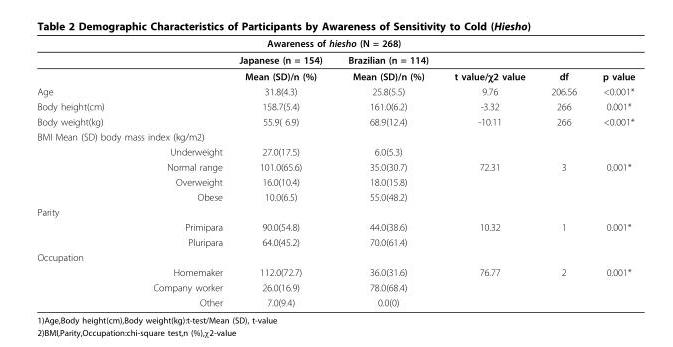table: (36, 37, 634, 307)
table column: (36, 37, 230, 307), (334, 37, 440, 307), (230, 37, 334, 307), (440, 37, 537, 307), (537, 37, 589, 307), (589, 37, 634, 307)
table column header: (36, 37, 634, 67)
table projected row header: (36, 128, 634, 143), (36, 204, 634, 219), (36, 249, 634, 264)
table row: (36, 51, 634, 67), (36, 67, 634, 83), (36, 143, 634, 159), (36, 83, 634, 98), (36, 98, 634, 113), (36, 113, 634, 128), (36, 128, 634, 143), (36, 159, 634, 174), (36, 174, 634, 189), (36, 189, 634, 204), (36, 204, 634, 219), (36, 219, 634, 234), (36, 234, 634, 249), (36, 249, 634, 264), (36, 264, 634, 279), (36, 279, 634, 294), (36, 37, 634, 51), (36, 294, 634, 307)
table spanning cell: (230, 37, 440, 51)
